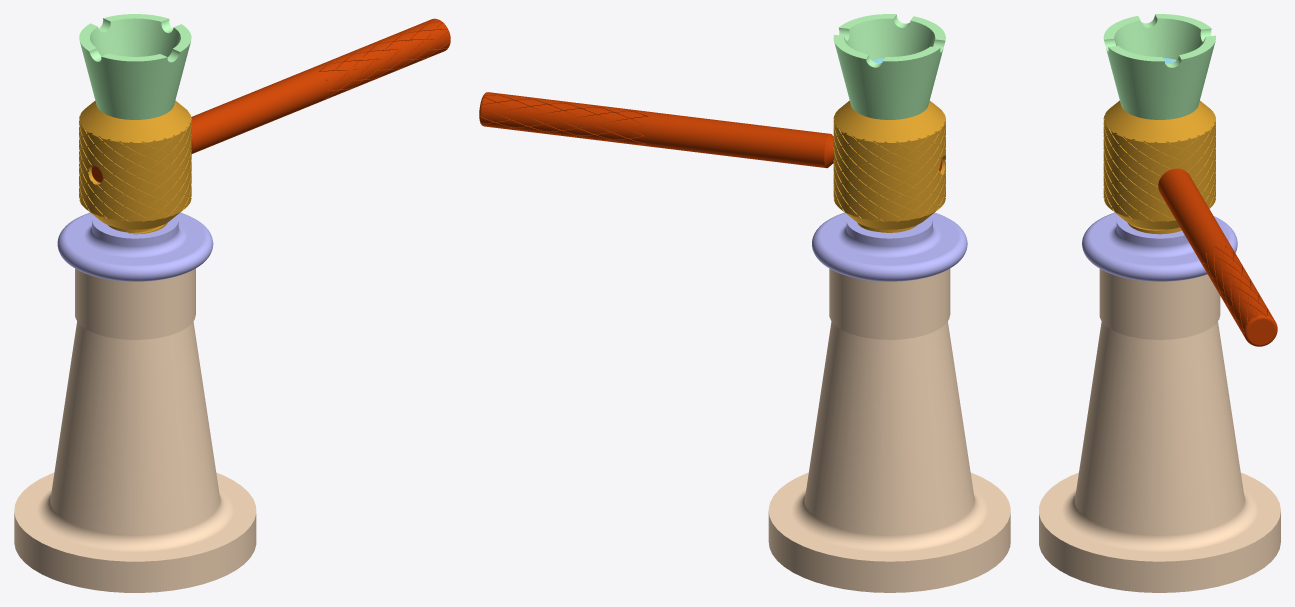
Rendered from screw_jack_assem.glb.
3 views of the same model, side by side, from view 1: azimuth 30°, elevation 25°; view 2: azimuth 150°, elevation 25°; view 3: azimuth 270°, elevation 25° (orthographic).
Parts seen in each view (by area): view 1: Main body-1, Screw_1-1, Tommy_bar-2, Cup-1, nut-1; view 2: Main body-1, Tommy_bar-2, Screw_1-1, Cup-1, nut-1; view 3: Main body-1, Screw_1-1, Cup-1, Tommy_bar-2, nut-1.
Part boxes in pixels (box(x1,y1,x2,y2)): Main body-1: box(14, 268, 256, 592); Screw_1-1: box(79, 100, 191, 234); Tommy_bar-2: box(91, 18, 450, 182); Cup-1: box(79, 14, 191, 119); nut-1: box(57, 212, 213, 281); Main body-1: box(768, 268, 1010, 592); Tommy_bar-2: box(479, 92, 942, 171); Screw_1-1: box(833, 100, 945, 232); Cup-1: box(833, 14, 945, 119); nut-1: box(812, 212, 967, 281); Main body-1: box(1039, 269, 1280, 592); Screw_1-1: box(1103, 100, 1215, 234); Cup-1: box(1103, 14, 1215, 119); Tommy_bar-2: box(1158, 168, 1277, 346); nut-1: box(1082, 212, 1237, 281).
Bounding box in the file's own units: 0.3093 × 0.3214 × 0.1398.
